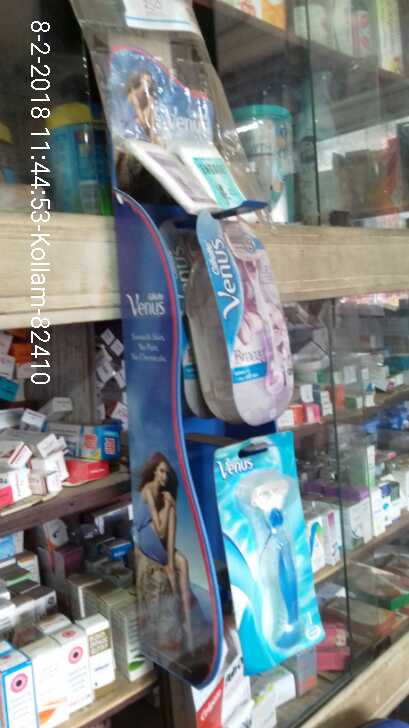venus: (216, 443, 327, 662), (195, 214, 305, 423)
